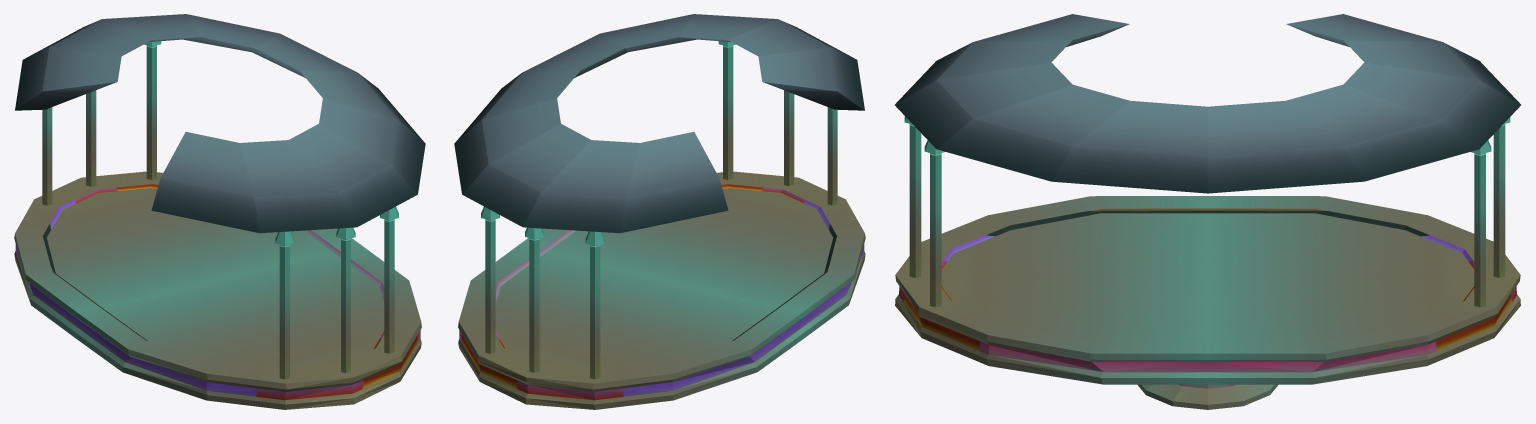
The model's file is scifi_platform.glb.
The picture shows the model from 3 angles, left to right: view 1: azimuth 30°, elevation 25°; view 2: azimuth 150°, elevation 25°; view 3: azimuth 270°, elevation 25°; orthographic projection. The views are drawn at different scales.
Parts seen in each view (by area): view 1: SKY_platform; view 2: SKY_platform; view 3: SKY_platform.
Boxes of the visible parts, x1,y1,x2,y2 form: SKY_platform: (14, 14, 425, 409); SKY_platform: (454, 14, 865, 409); SKY_platform: (895, 14, 1520, 409).
Bounding box in the file's own units: 7.08 × 6.5 × 11.1.
Materials: 1 (1 with a texture image).
